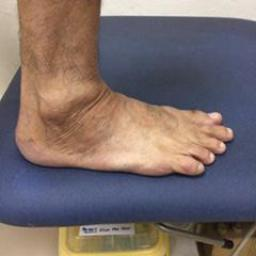Lateral View -Right Foot-: (11, 42, 239, 192)
